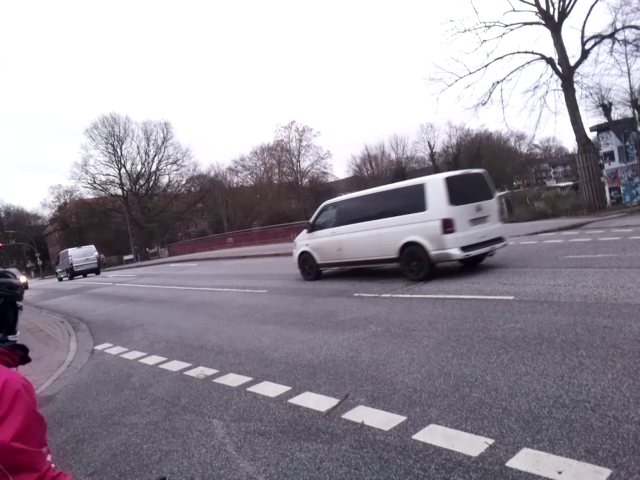car: (288, 161, 507, 295), (52, 240, 106, 284)
